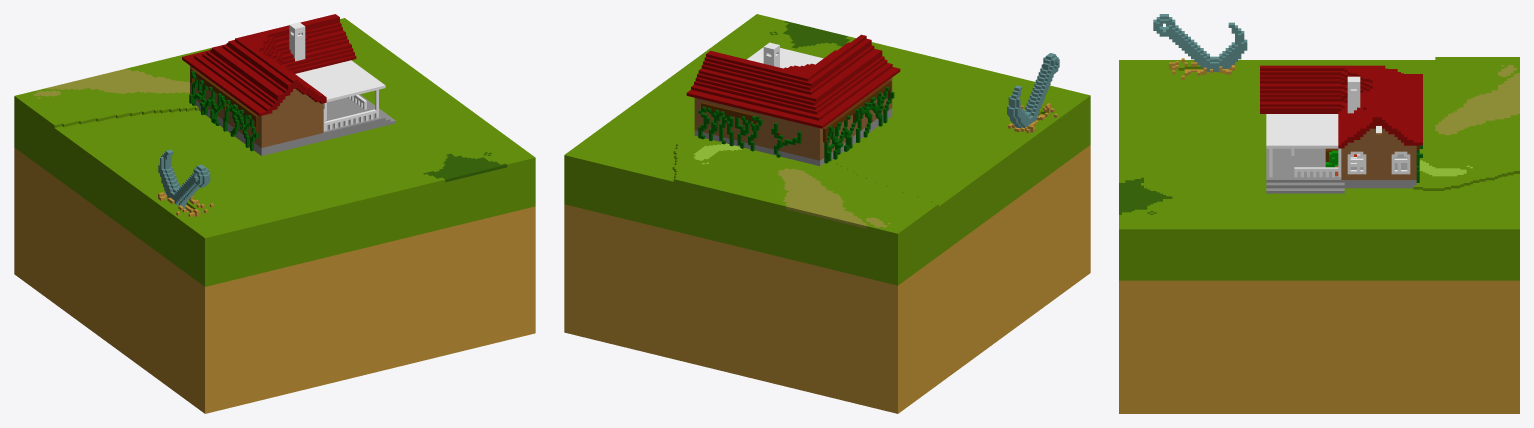
3 views of the same model, side by side, from view 1: azimuth 30°, elevation 25°; view 2: azimuth 150°, elevation 25°; view 3: azimuth 270°, elevation 25° (orthographic). The views are drawn at different scales.
Parts seen in each view (by area): view 1: 2D.001; view 2: 2D.001; view 3: 2D.001.
Boxes of the visible parts, <box> form: 2D.001: <box>14,14,535,413</box>; 2D.001: <box>564,14,1090,413</box>; 2D.001: <box>1119,14,1519,413</box>.
Bounding box in the file's own units: 12.8 × 9.5 × 12.8.
1 material, 1 textured.
